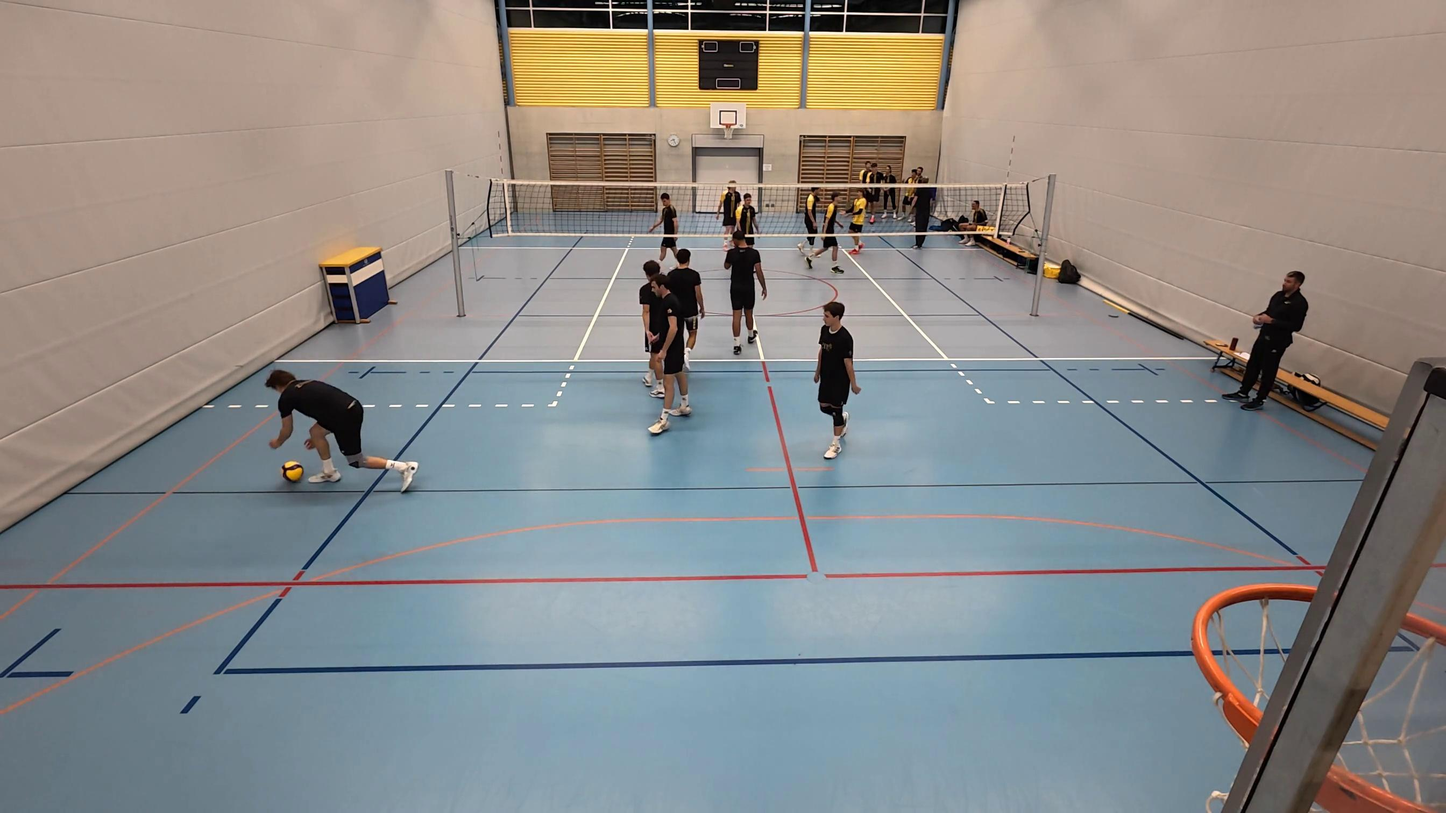Player: (261, 367, 419, 493), (648, 249, 701, 434), (813, 301, 860, 460), (722, 227, 768, 356), (639, 261, 668, 396), (813, 192, 845, 272), (799, 186, 825, 259), (656, 192, 680, 263), (845, 190, 867, 256), (731, 189, 756, 246), (716, 182, 739, 237)
ball: (281, 461, 303, 483)
